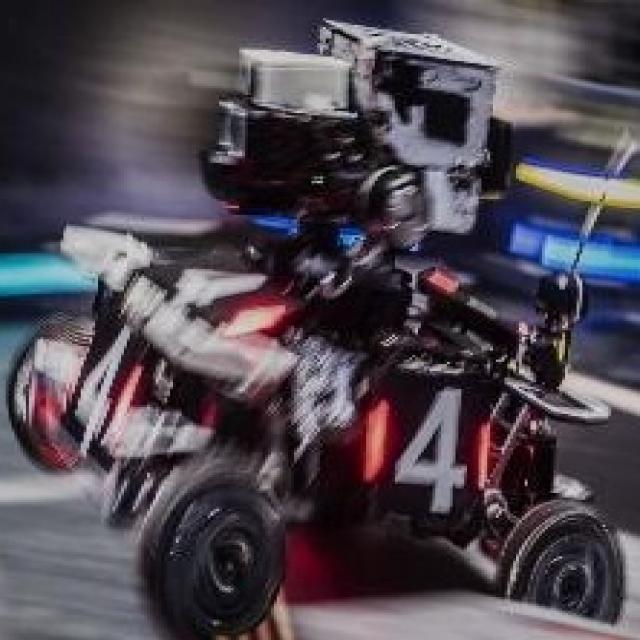R4: (363, 385, 487, 511), (144, 245, 288, 332), (81, 305, 141, 450)
